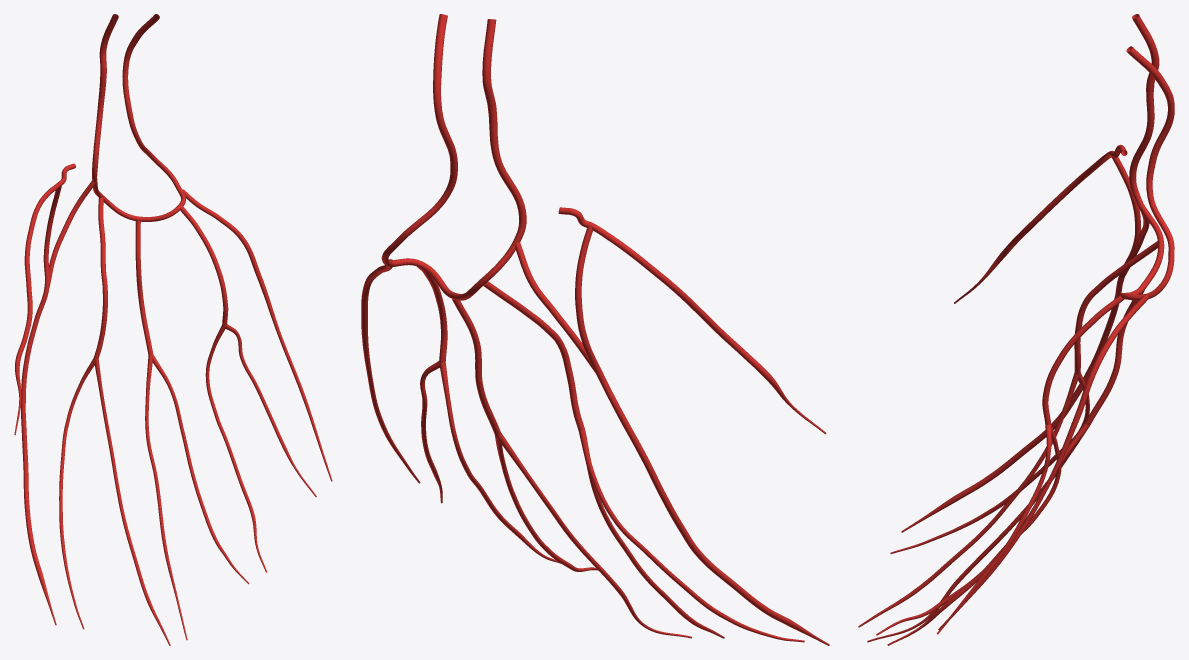
The model's file is circulatorio-superficial-venous-palmar-arch-r.glb.
3 renders of one model, left to right at view 1: azimuth 30°, elevation 25°; view 2: azimuth 150°, elevation 25°; view 3: azimuth 270°, elevation 25°, orthographic. The views are drawn at different scales.
Visible parts, largest first — view 1: Palmar digital veins.r, Superficial venous palmar arch.r; view 2: Palmar digital veins.r, Superficial venous palmar arch.r; view 3: Palmar digital veins.r, Superficial venous palmar arch.r.
Part boxes in pixels (x1,y1,x2,y2): Palmar digital veins.r: (14, 163, 332, 645); Superficial venous palmar arch.r: (92, 14, 185, 221); Palmar digital veins.r: (361, 207, 829, 645); Superficial venous palmar arch.r: (381, 14, 526, 300); Palmar digital veins.r: (858, 144, 1157, 645); Superficial venous palmar arch.r: (1118, 14, 1174, 300).
Bounding box in the file's own units: 0.0999 × 0.1633 × 0.072.
